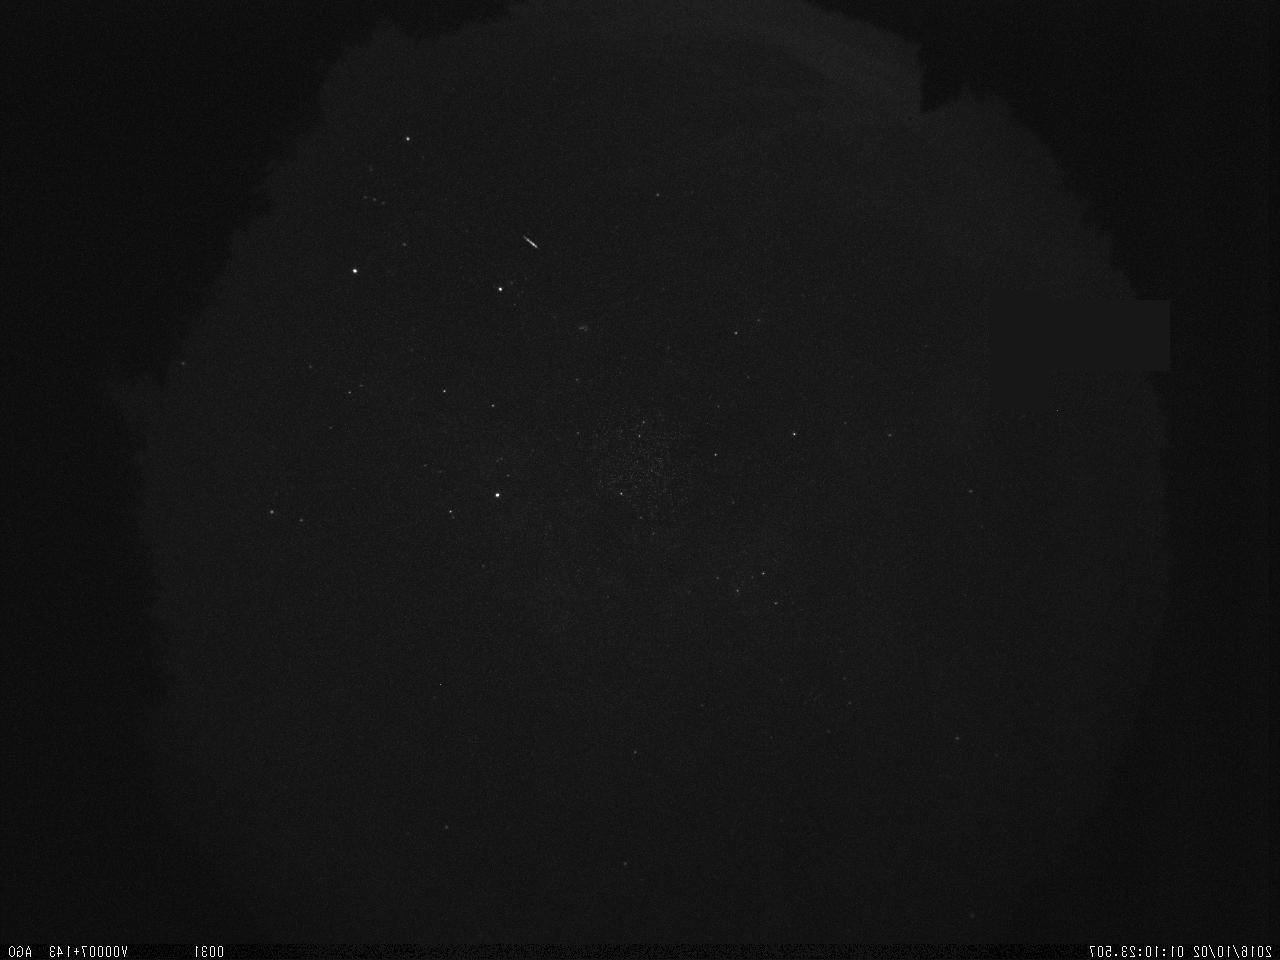meteor: (505, 222, 548, 257)
